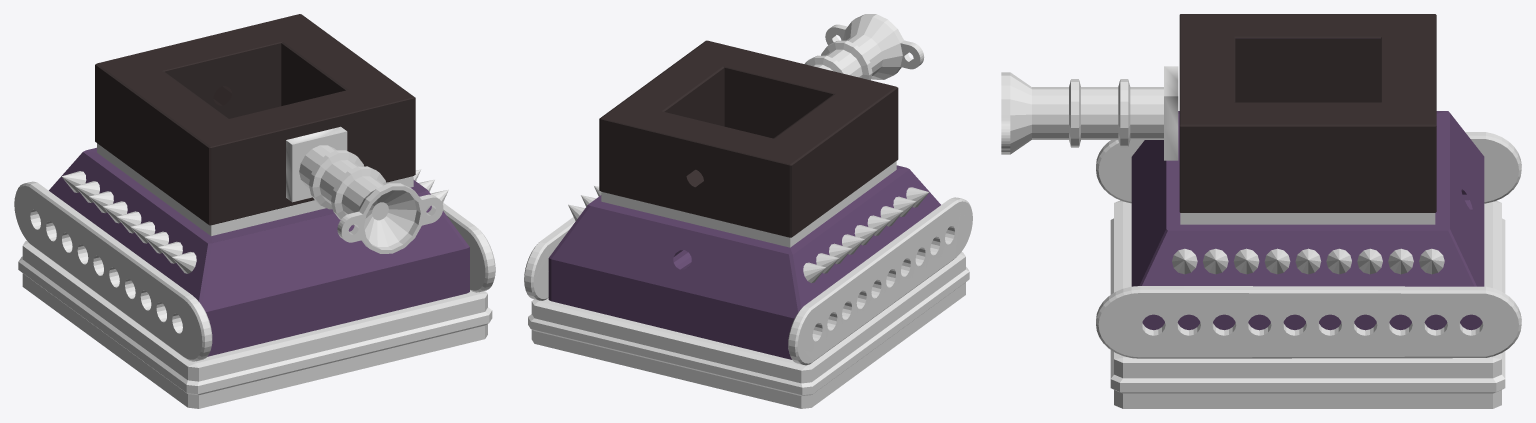
Rendered from tank_with_spikes.fbx.
The picture shows the model from 3 angles, left to right: view 1: azimuth 30°, elevation 25°; view 2: azimuth 150°, elevation 25°; view 3: azimuth 270°, elevation 25°; orthographic projection. The views are drawn at different scales.
Visible parts, largest first — view 1: center, base, revolver, tracks, turret, Cone, revolver small; view 2: center, base, revolver, tracks, turret, revolver small, Cone; view 3: center, tracks, base, revolver, turret, Cone, revolver small.
Boxes of the visible parts, x1,y1,x2,y2 form: center: [95, 14, 415, 225]; base: [49, 147, 469, 356]; revolver: [18, 240, 492, 408]; tracks: [14, 181, 495, 361]; turret: [286, 126, 443, 253]; Cone: [61, 169, 448, 273]; revolver small: [97, 143, 413, 236]; center: [599, 40, 898, 237]; base: [548, 165, 940, 359]; revolver: [528, 252, 969, 408]; tracks: [524, 197, 972, 365]; turret: [804, 14, 924, 80]; revolver small: [601, 161, 896, 247]; Cone: [568, 186, 929, 283]; center: [1179, 14, 1436, 212]; tracks: [1096, 132, 1521, 358]; base: [1131, 111, 1484, 330]; revolver: [1110, 200, 1505, 408]; turret: [1001, 66, 1178, 160]; Cone: [1172, 248, 1444, 274]; revolver small: [1180, 213, 1435, 224].
Bounding box in the file's own units: 896 × 650 × 1181.
Materials: 1 (1 with a texture image).
